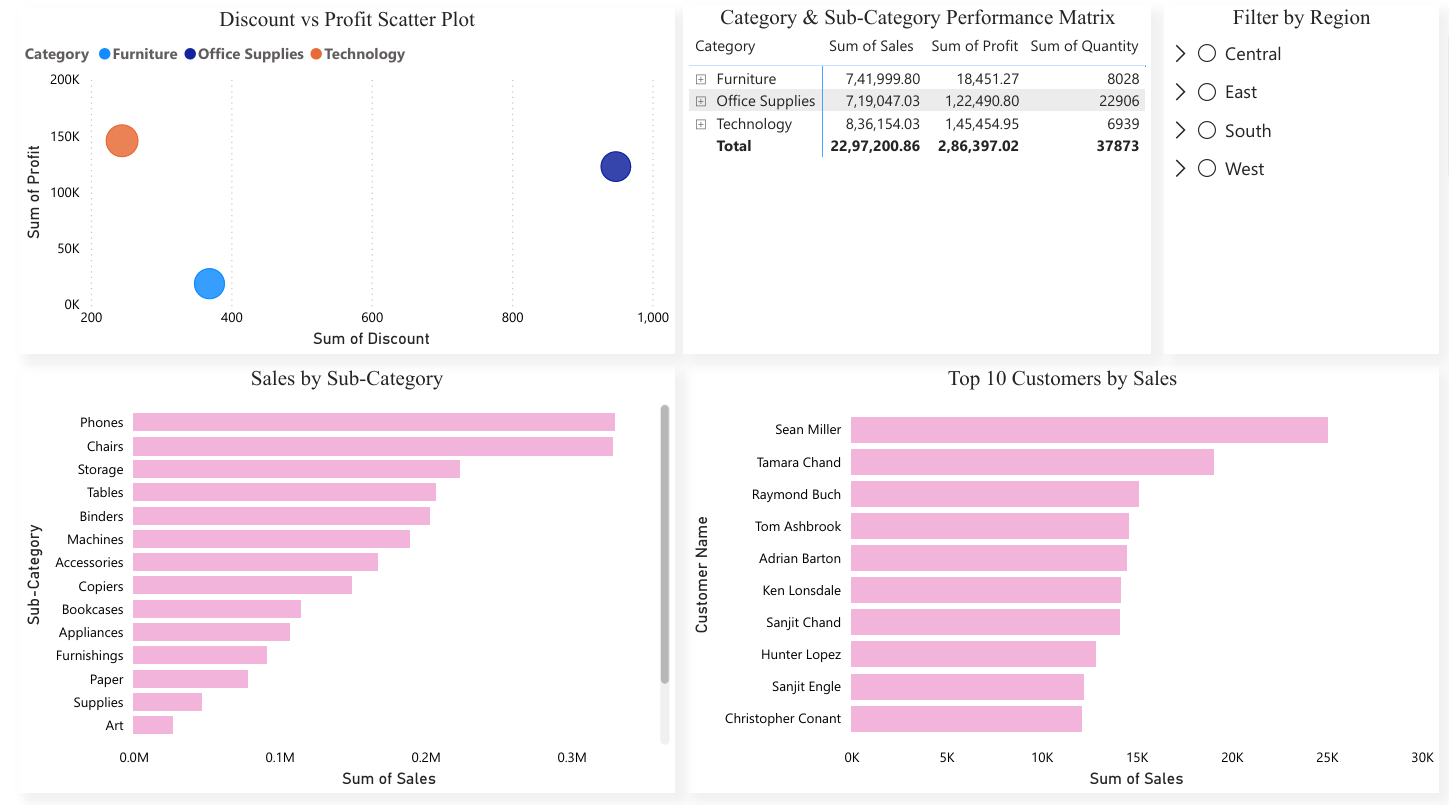

This screenshot's page, from the dashboard's own definition file:
{"tool":"powerbi","page":{"name":"Customer & Product Insights","canvas":[1280,720],"ordinal":1},"visuals":[{"type":"clusteredBarChart","title":"Top 10 Customers by Sales","fields":{"Category":["superstore_clean.Customer Name"],"Y":["Sum(superstore_clean.Sales)"]},"box":[610.2,0,668.9,392.5],"z":0},{"type":"barChart","title":"Sales by Sub-Category","fields":{"Category":["superstore_clean.Sub-Category"],"Y":["Sum(superstore_clean.Sales)"]},"box":[0,0,610.2,474.5],"z":1000},{"type":"scatterChart","title":"Discount vs Profit Scatter Plot","fields":{"Category":["superstore_clean.Category"],"Series":["superstore_clean.Category"],"Size":["Sum(superstore_clean.Sales)"],"X":["Sum(superstore_clean.Discount)"],"Y":["Sum(superstore_clean.Profit)"]},"box":[0,474.5,610.2,244.6],"z":2000},{"type":"pivotTable","title":"Category & Sub-Category Performance Matrix","fields":{"Rows":["superstore_clean.Category","superstore_clean.Sub-Category"],"Values":["Sum(superstore_clean.Sales)","Sum(superstore_clean.Profit)","Sum(superstore_clean.Quantity)"]},"box":[610.2,392.5,415.8,327.7],"z":4000},{"type":"listSlicer","title":"Filter by Region  ","fields":{"Values":["superstore_clean.Region","superstore_clean.Category","superstore_clean.Order Date.Variation.Date Hierarchy.Year","superstore_clean.Order Date.Variation.Date Hierarchy.Quarter","superstore_clean.Order Date.Variation.Date Hierarchy.Month","superstore_clean.Order Date.Variation.Date Hierarchy.Day"]},"box":[1026,392.5,254.3,326.5],"z":4001}]}

Visuals, with their boxes in screenshot pixels (x1, y1, x2, y2), scaled from the page's 1280x720 canvas onto the 1451x806 screenshot:
"Top 10 Customers by Sales" clusteredBarChart: select_region(692, 0, 1450, 439)
"Sales by Sub-Category" barChart: select_region(0, 0, 692, 531)
"Discount vs Profit Scatter Plot" scatterChart: select_region(0, 531, 692, 805)
"Category & Sub-Category Performance Matrix" pivotTable: select_region(692, 439, 1163, 805)
"Filter by Region  " listSlicer: select_region(1163, 439, 1450, 805)
